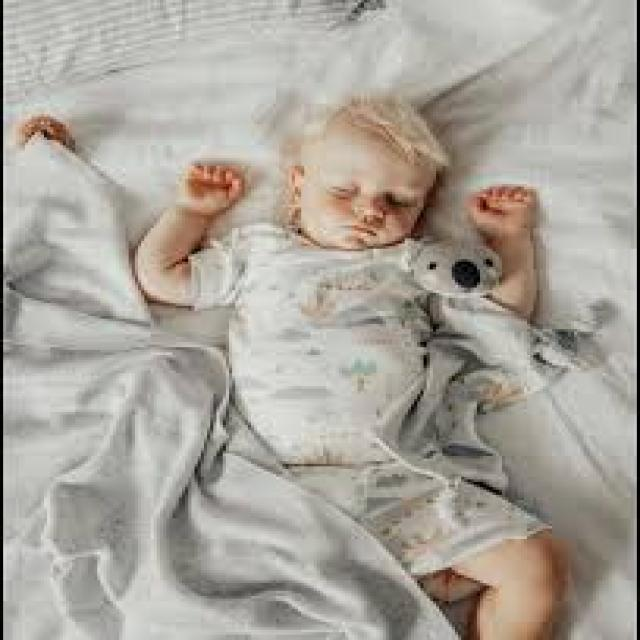blanket: (6, 136, 457, 639)
